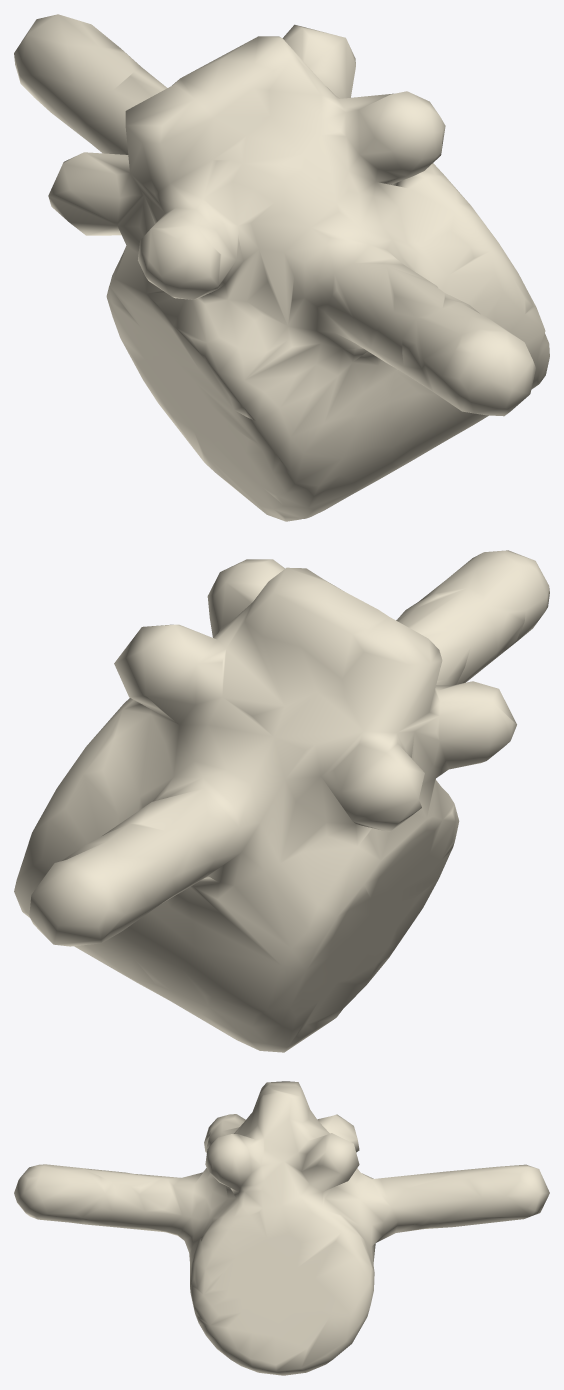
File: cervical_1.glb
3 renders of one model, top to bottom at view 1: azimuth 30°, elevation 25°; view 2: azimuth 150°, elevation 25°; view 3: azimuth 270°, elevation 25°, orthographic. The views are drawn at different scales.
Parts seen in each view (by area): view 1: geometry_0; view 2: geometry_0; view 3: geometry_0.
Part boxes in pixels (left/top/right/bottom): geometry_0: left=14, top=14, right=549, bottom=521; geometry_0: left=14, top=550, right=549, bottom=1052; geometry_0: left=14, top=1081, right=549, bottom=1375.
Bounding box in the file's own units: 0.1492 × 0.1601 × 0.2917.
